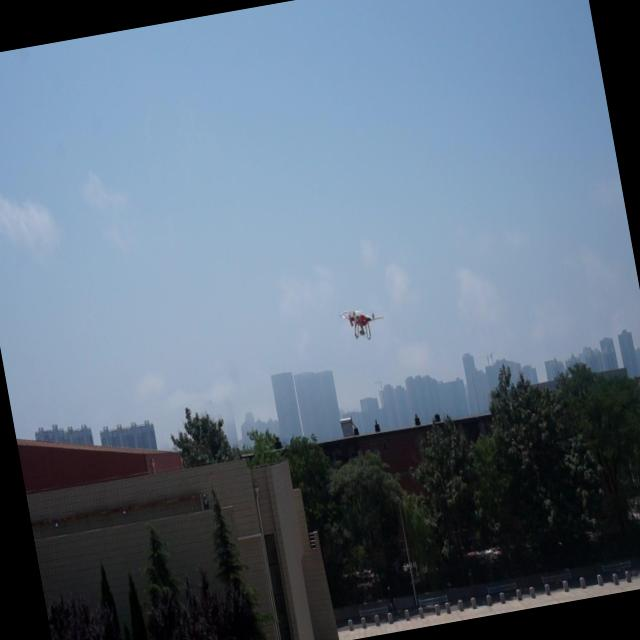drone: (335, 298, 388, 347)
